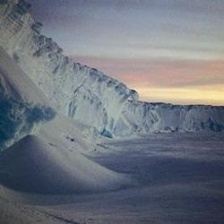neutral: (3, 12, 224, 192)
